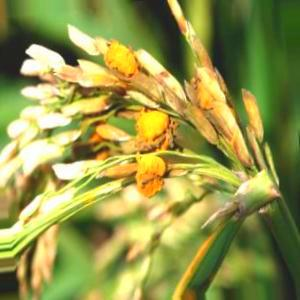Leaf_Scald: (135, 112, 172, 196), (193, 62, 226, 144), (95, 34, 139, 88), (136, 151, 164, 194), (138, 101, 163, 148), (236, 125, 256, 180), (96, 121, 128, 153), (183, 7, 207, 49), (245, 88, 263, 131)
